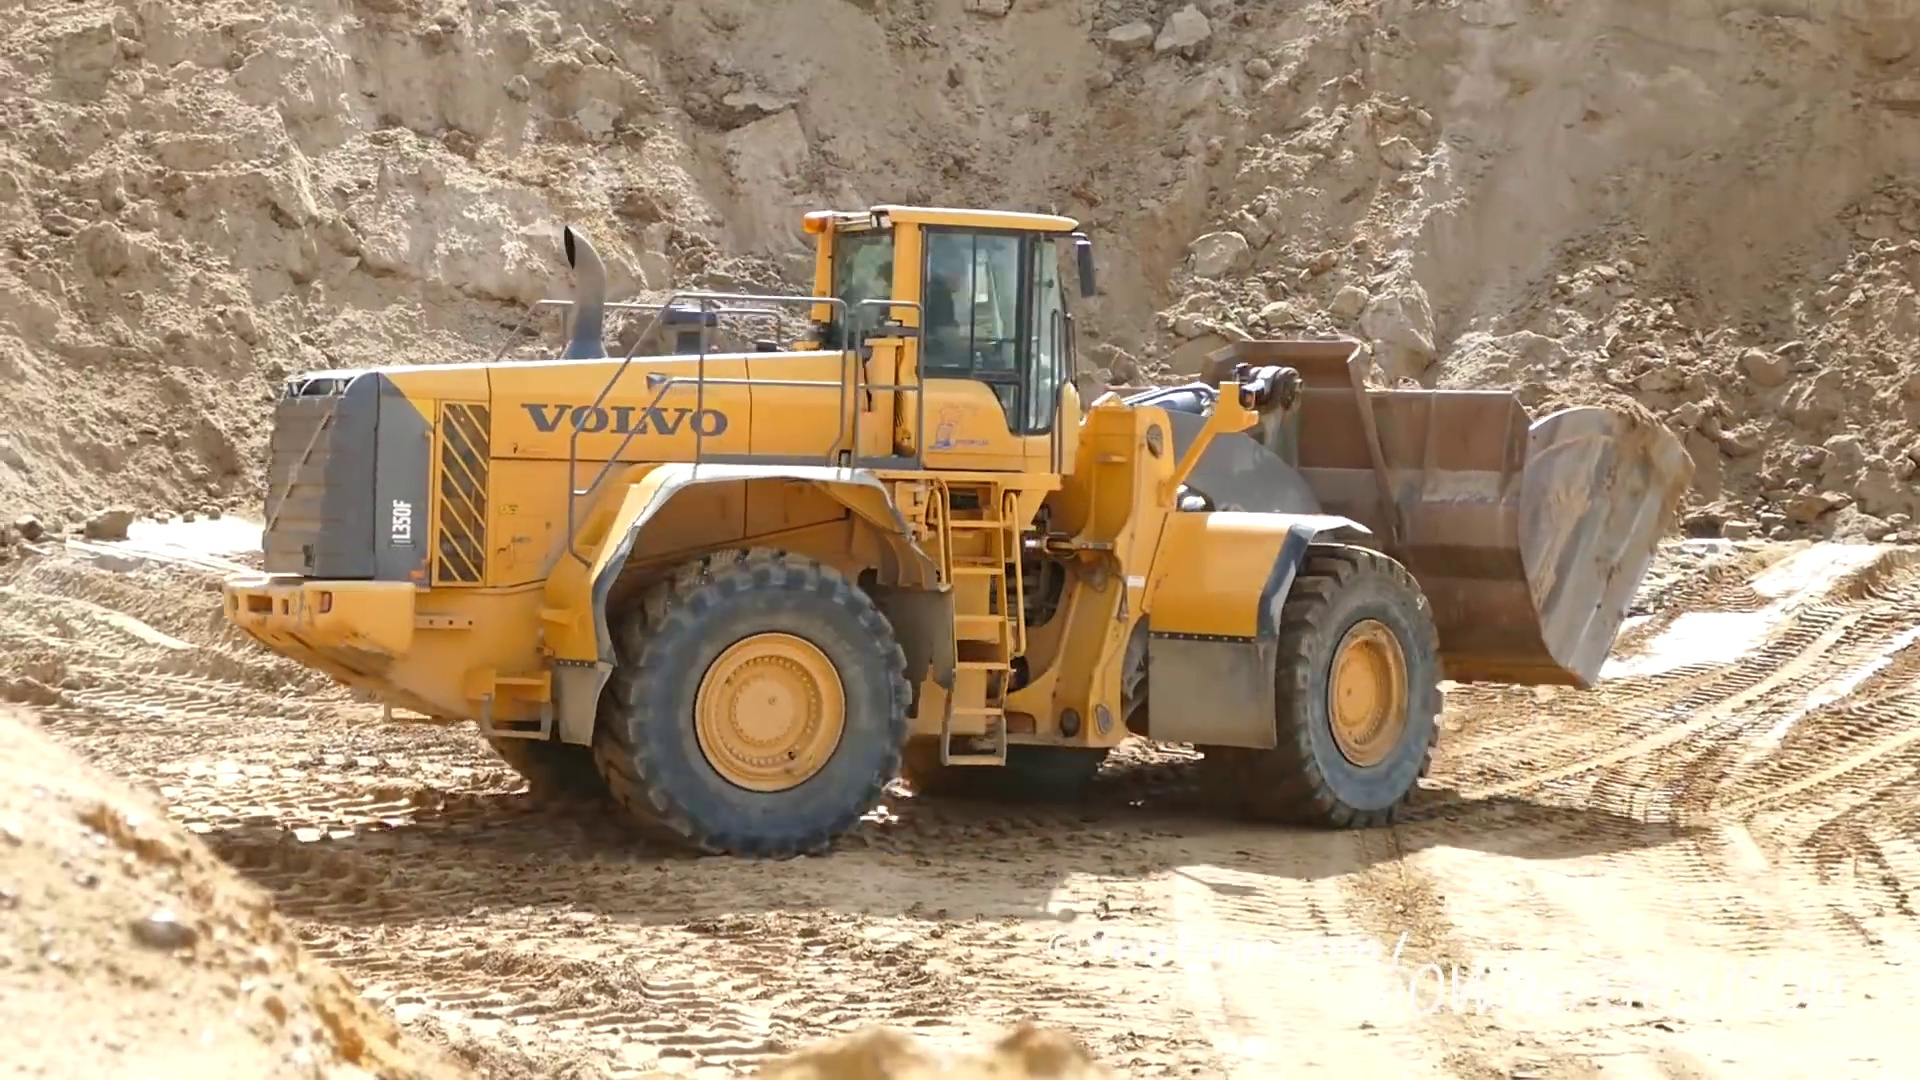wheel loader: (222, 203, 1693, 862)
